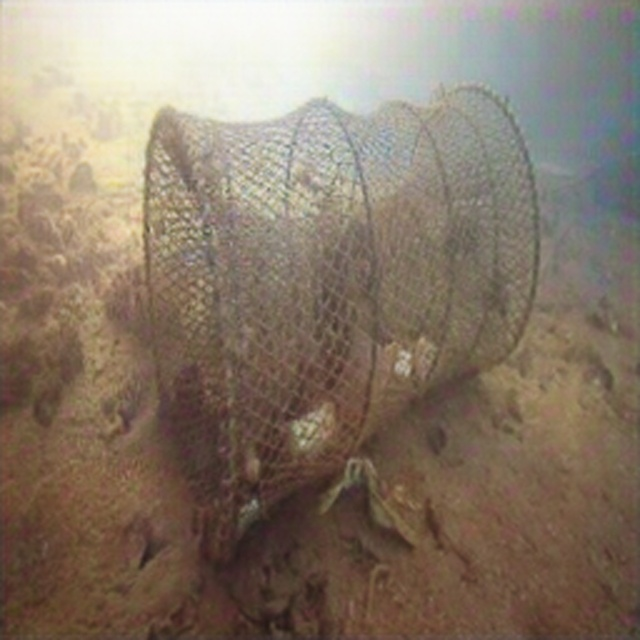mine: (141, 79, 542, 564)
